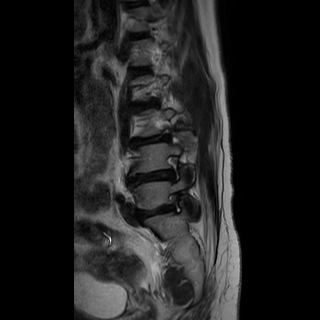LFS1: (161, 149, 184, 187)
LFS3: (164, 187, 188, 221)
